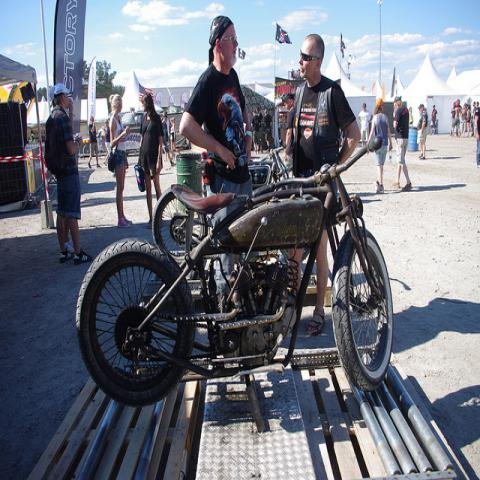motorcycle: (74, 132, 394, 407), (153, 189, 206, 261)
